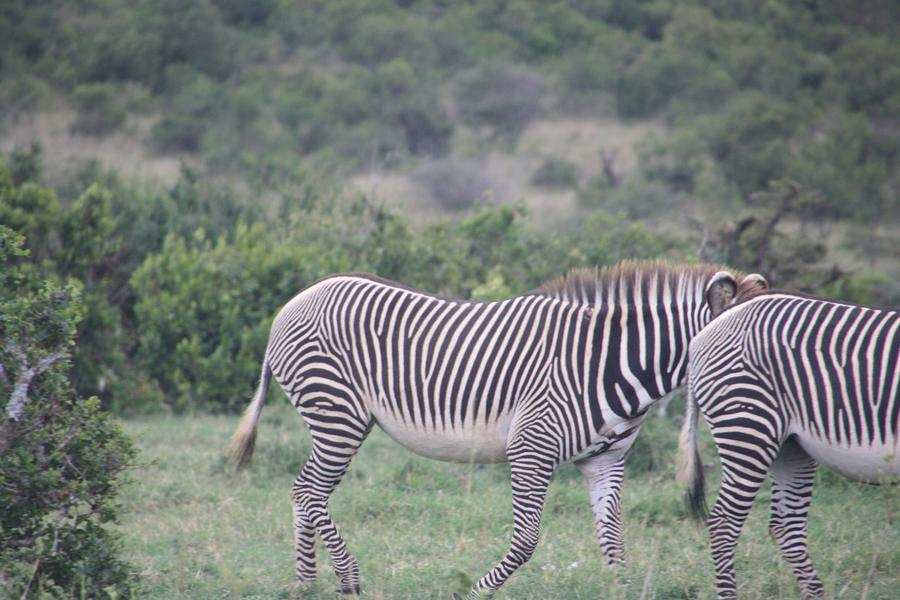zebra_grevys: (263, 251, 583, 462)
